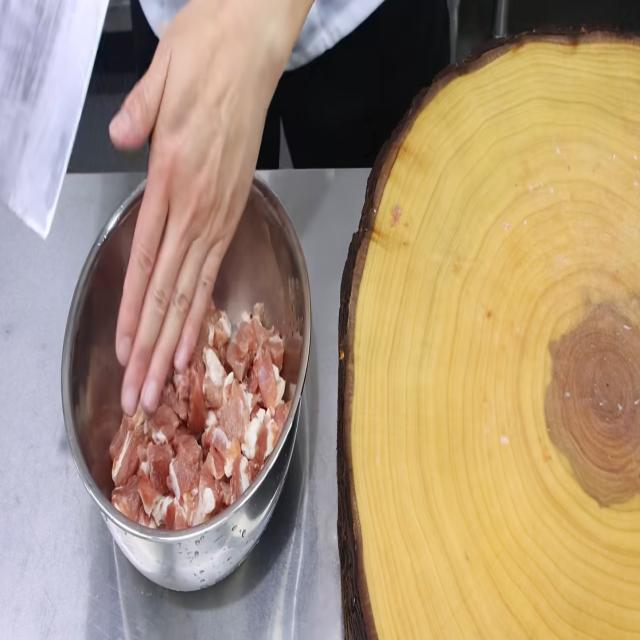pork: (114, 483, 180, 532), (220, 388, 252, 453), (112, 418, 140, 481), (232, 318, 256, 380), (206, 307, 230, 362), (232, 438, 251, 504), (209, 339, 225, 408), (202, 465, 224, 515), (262, 352, 279, 414), (183, 434, 200, 492), (216, 425, 232, 476), (151, 444, 171, 480), (193, 377, 205, 433), (157, 409, 179, 436)
